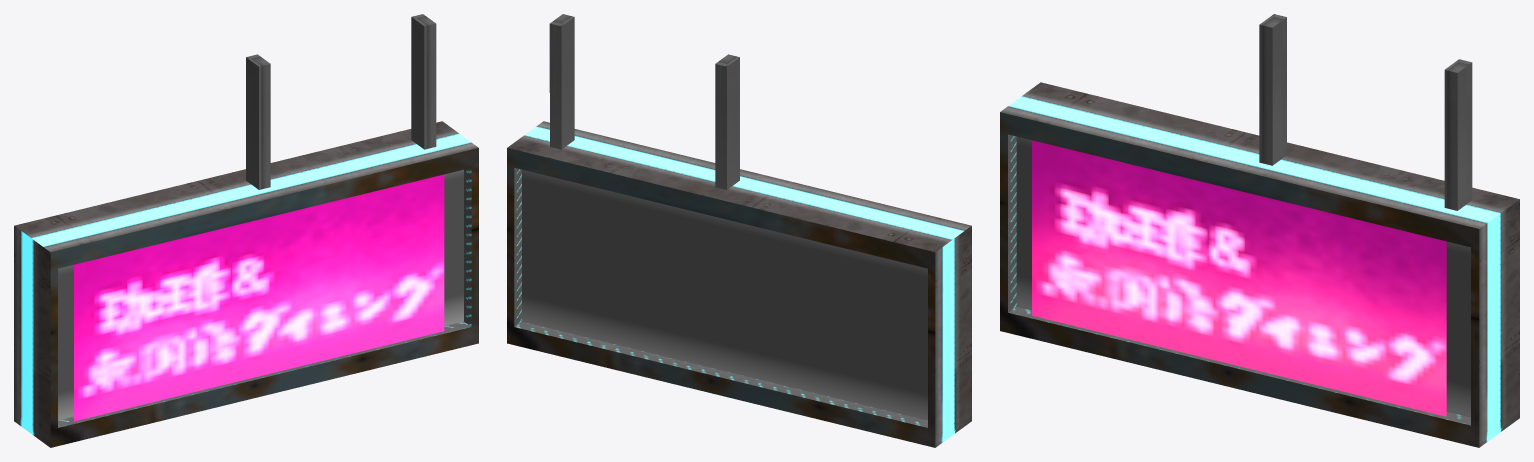
File: Japanese_Sign_05.glb
3 views of the same model, side by side, from view 1: azimuth 30°, elevation 25°; view 2: azimuth 150°, elevation 25°; view 3: azimuth 330°, elevation 25° (orthographic). The views are drawn at different scales.
Visible parts, largest first — view 1: Japanese_Sign_05; view 2: Japanese_Sign_05; view 3: Japanese_Sign_05.
Part boxes in pixels (left/top/right/bottom): Japanese_Sign_05: left=14, top=14, right=478, bottom=447; Japanese_Sign_05: left=507, top=14, right=971, bottom=447; Japanese_Sign_05: left=1000, top=14, right=1519, bottom=447.
Bounding box in the file's own units: 0.8588 × 0.6112 × 0.1264.
Materials: 2 (1 with a texture image).
